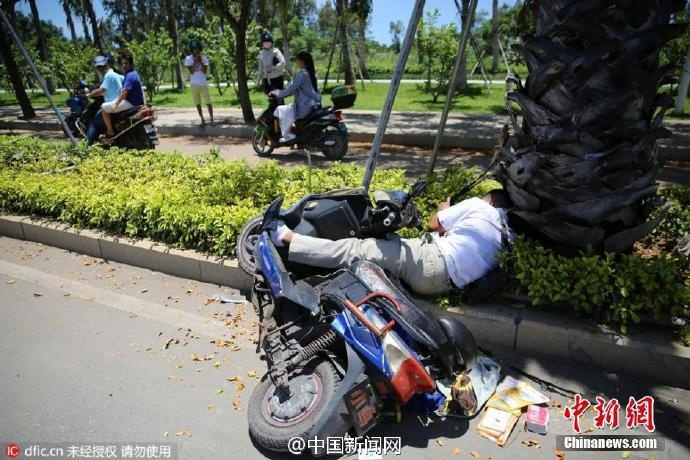falling: (254, 176, 530, 293)
